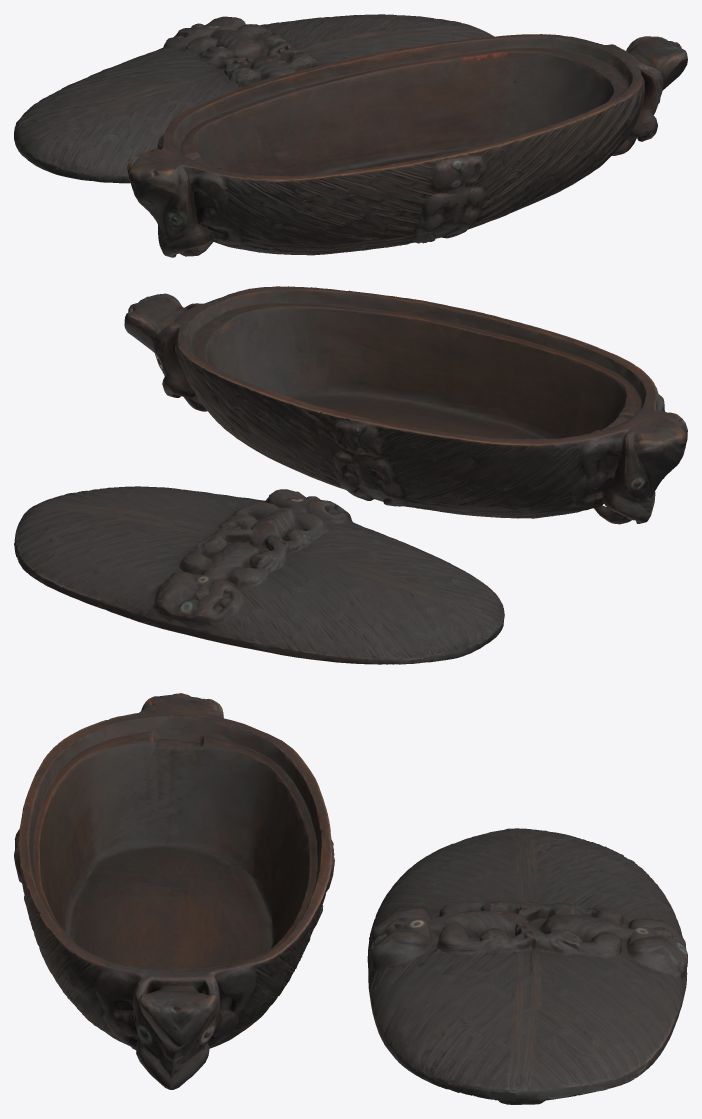
File: waka_huia_treasure_box.glb
3 renders of one model, top to bottom at view 1: azimuth 30°, elevation 25°; view 2: azimuth 150°, elevation 25°; view 3: azimuth 270°, elevation 25°, orthographic. The views are drawn at different scales.
Parts seen in each view (by area): view 1: ADVIMG_1979_206_1439ab_MaoriBox_Lid_n3d; view 2: ADVIMG_1979_206_1439ab_MaoriBox_Lid_n3d; view 3: ADVIMG_1979_206_1439ab_MaoriBox_Lid_n3d.
Part boxes in pixels (<box>): ADVIMG_1979_206_1439ab_MaoriBox_Lid_n3d: <box>14,14,687,257</box>; ADVIMG_1979_206_1439ab_MaoriBox_Lid_n3d: <box>14,286,687,664</box>; ADVIMG_1979_206_1439ab_MaoriBox_Lid_n3d: <box>14,693,687,1104</box>.
Bounding box in the file's own units: 0.5723 × 0.1209 × 0.517.
1 material, 1 textured.
